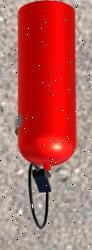Fire Extinguisher: (7, 0, 92, 237)
